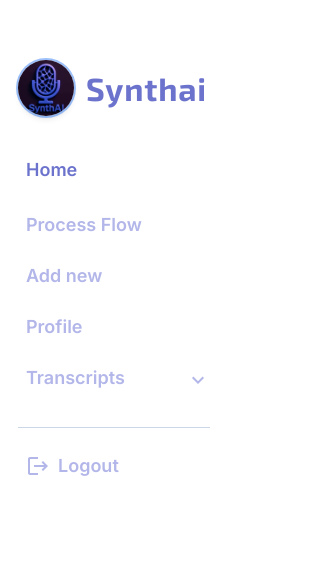
Navbar - Complete coverage of router.push and color styling › Toggles expansion state when arrow icon is clicked
Click the 6th button: [198, 380] box left=186, top=356, right=210, bottom=403
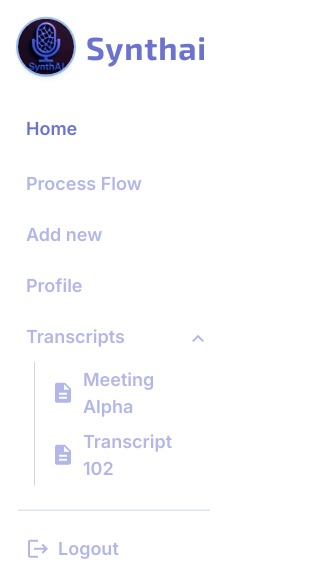
expect the icon with test id "ExpandLessIcon" is shown: met, box left=186, top=327, right=210, bottom=351
Click the 6th button: [198, 338] box left=186, top=315, right=210, bottom=362
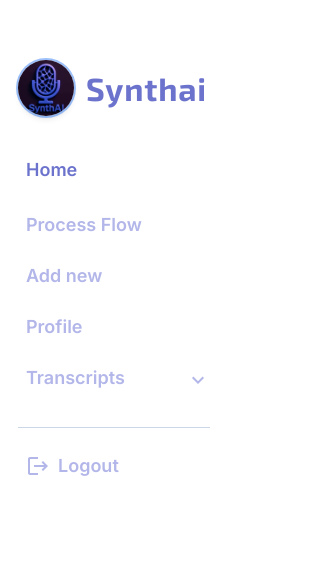
expect the icon with test id "ExpandMoreIcon" is shown: met, box left=186, top=368, right=210, bottom=392
